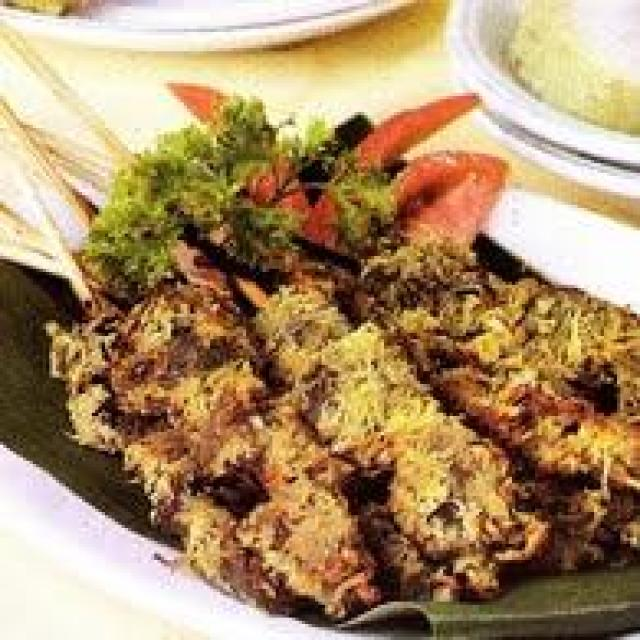Sate: (0, 48, 617, 611)
